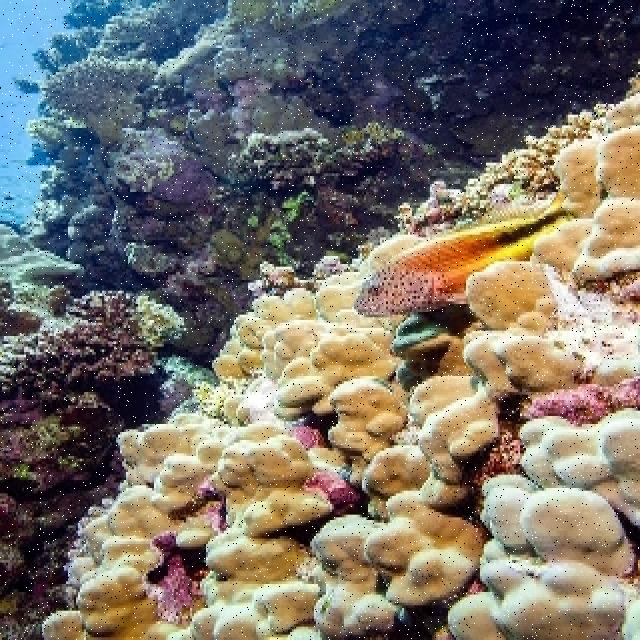fish: (353, 174, 596, 317)
reefs: (41, 96, 638, 637)
